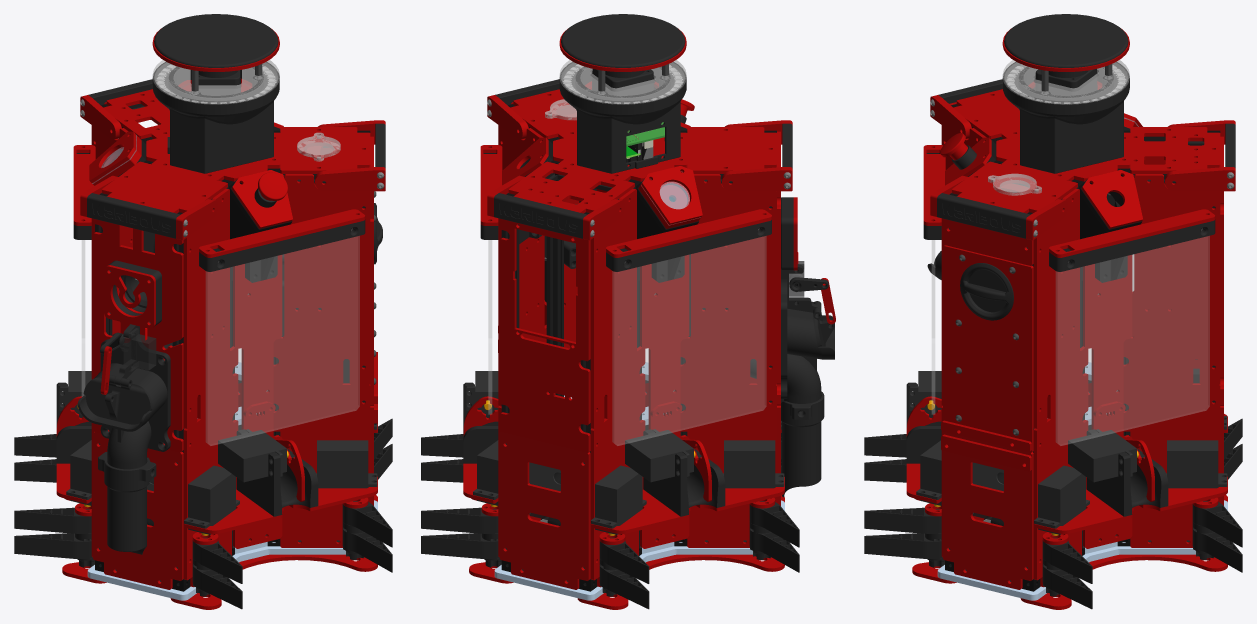
The model's file is robot-mary.glb.
3 renders of one model, left to right at view 1: azimuth 30°, elevation 25°; view 2: azimuth 150°, elevation 25°; view 3: azimuth 270°, elevation 25°, orthographic.
Parts seen in each view (by area): view 1: PlaqueDeguisement, CarterSup_75, CoqueLidar2023, CarterInfAscenseur_30, CarterSup_113, CarterVac, CarterMoteur_104, PlaqueVerticale, TubeExterne, SupportCrochet, CarterTop_4, TubeEntree (+50 smaller); view 2: PlaqueDeguisement_23, PlaqueDeguisement_20, CarterSup_186, CarterSide_4, CarterMoteur, CarterInfAscenseur_108, CarterSup_187, CoqueLidar2023, PlaqueVerticale_53, SupportCrochet, TubeExterne, CarterTop_4 (+54 smaller); view 3: PlaqueDeguisement_39, PlaqueDeguisement_36, CarterSup, CarterBatterie, CarterMoteur_70, CoqueLidar2023, CarterInfAscenseur_4, CarterSup_76, PlaqueVerticale_99, SupportCrochet, CarterTopLED, CarterTopUsb_50 (+55 smaller).
Part boxes in pixels (box(x1,y1,x2,y2)): PlaqueDeguisement: box(206, 229, 359, 445); CarterSup_75: box(273, 175, 370, 384); CoqueLidar2023: box(152, 62, 279, 173); CarterInfAscenseur_30: box(273, 385, 370, 547); CarterSup_113: box(187, 189, 238, 428); CarterVac: box(93, 218, 183, 452); CarterMoteur_104: box(93, 432, 181, 589); PlaqueVerticale: box(233, 255, 282, 548); TubeExterne: box(77, 324, 170, 469); SupportCrochet: box(154, 14, 278, 67); CarterTop_4: box(102, 161, 227, 212); TubeEntree: box(98, 452, 156, 554); PlaqueDeguisement_23: box(615, 236, 765, 445); PlaqueDeguisement_20: box(613, 237, 763, 443); CarterSup_186: box(680, 175, 776, 384); CarterSide_4: box(499, 218, 588, 453); CarterMoteur: box(499, 432, 590, 589); CarterInfAscenseur_108: box(680, 385, 776, 547); CarterSup_187: box(594, 189, 645, 428); CoqueLidar2023: box(559, 62, 686, 173); PlaqueVerticale_53: box(642, 255, 689, 548); SupportCrochet: box(561, 14, 685, 67); TubeExterne: box(781, 264, 834, 411); CarterTop_4: box(687, 127, 776, 170); PlaqueDeguisement_39: box(1058, 236, 1209, 445); PlaqueDeguisement_36: box(1056, 237, 1207, 443); CarterSup: box(1123, 174, 1220, 384); CarterBatterie: box(943, 245, 1033, 453); CarterMoteur_70: box(943, 432, 1031, 589); CoqueLidar2023: box(1002, 62, 1129, 173); CarterInfAscenseur_4: box(1123, 385, 1220, 547); CarterSup_76: box(1037, 189, 1088, 428); PlaqueVerticale_99: box(1085, 255, 1132, 548); SupportCrochet: box(1004, 14, 1128, 67); CarterTopLED: box(952, 161, 1077, 213); CarterTopUsb_50: box(1130, 127, 1220, 170).
Bounding box in the file's own units: 0.3405 × 0.4304 × 0.295.
